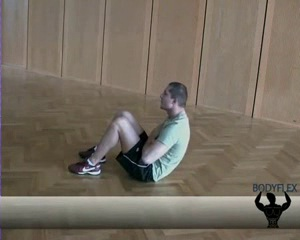sit_up: (65, 86, 184, 179)
